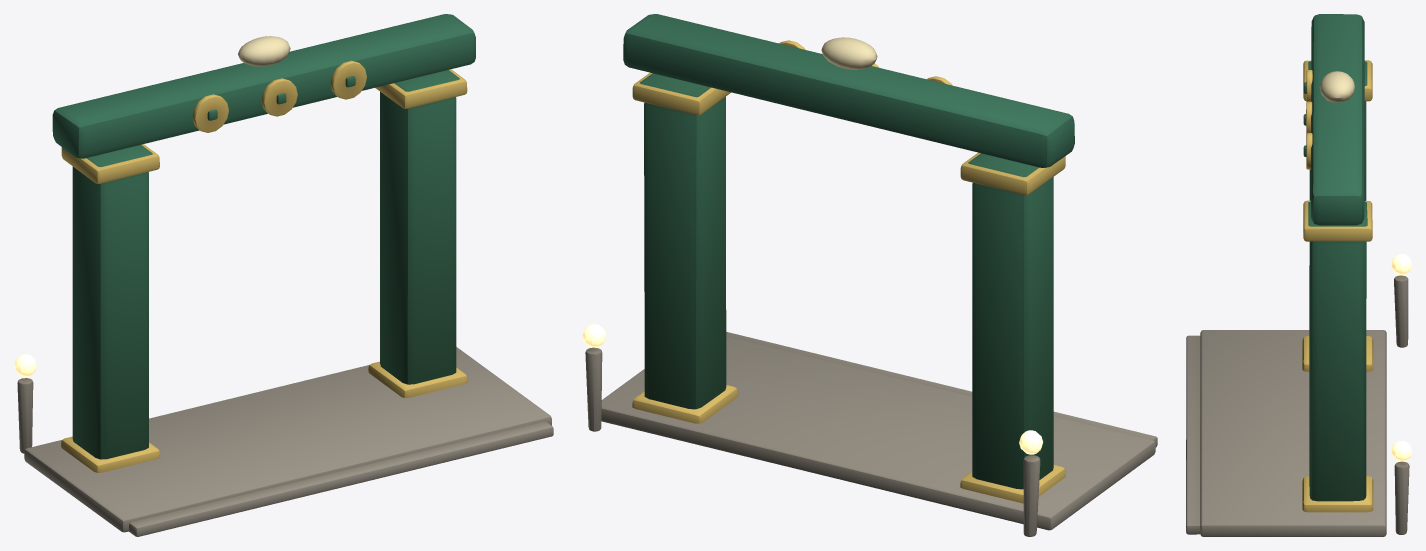
3 views of the same model, side by side, from view 1: azimuth 30°, elevation 25°; view 2: azimuth 150°, elevation 25°; view 3: azimuth 270°, elevation 25° (orthographic). The views are drawn at different scales.
Parts seen in each view (by area): view 1: gate_b23cc482; view 2: gate_b23cc482; view 3: gate_b23cc482.
Boxes of the visible parts, x1,y1,x2,y2 form: gate_b23cc482: [14, 14, 553, 536]; gate_b23cc482: [582, 14, 1157, 536]; gate_b23cc482: [1186, 14, 1411, 536].
Bounding box in the file's own units: 5.24 × 4.53 × 2.55.
